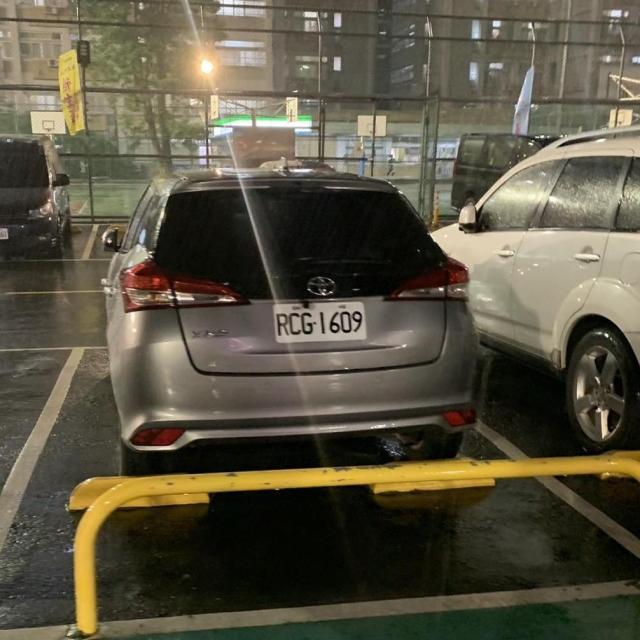W: (265, 292, 372, 345)
